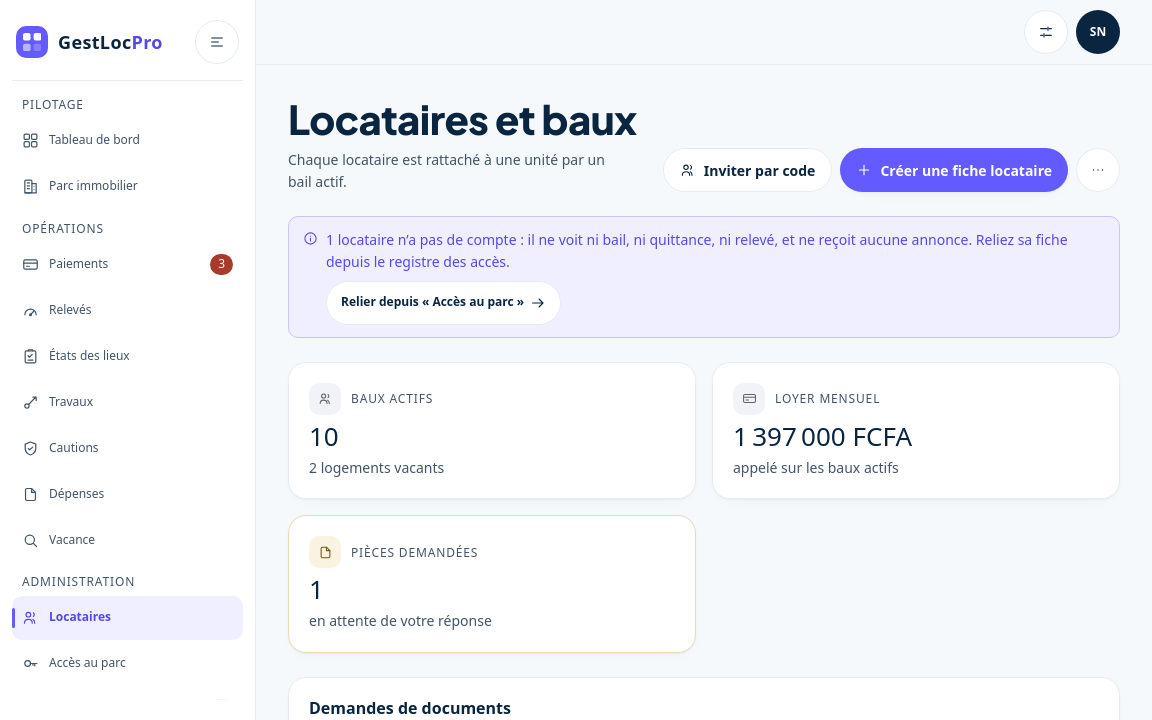
Test case: création d’une fiche locataire › refuse une fiche sans nom ni téléphone
What coordinates should you click on to do the following:
click the button "Créer une fiche locataire"
I would click on:
 (954, 170)
Its box is x1=840 y1=148 x2=1068 y2=192.
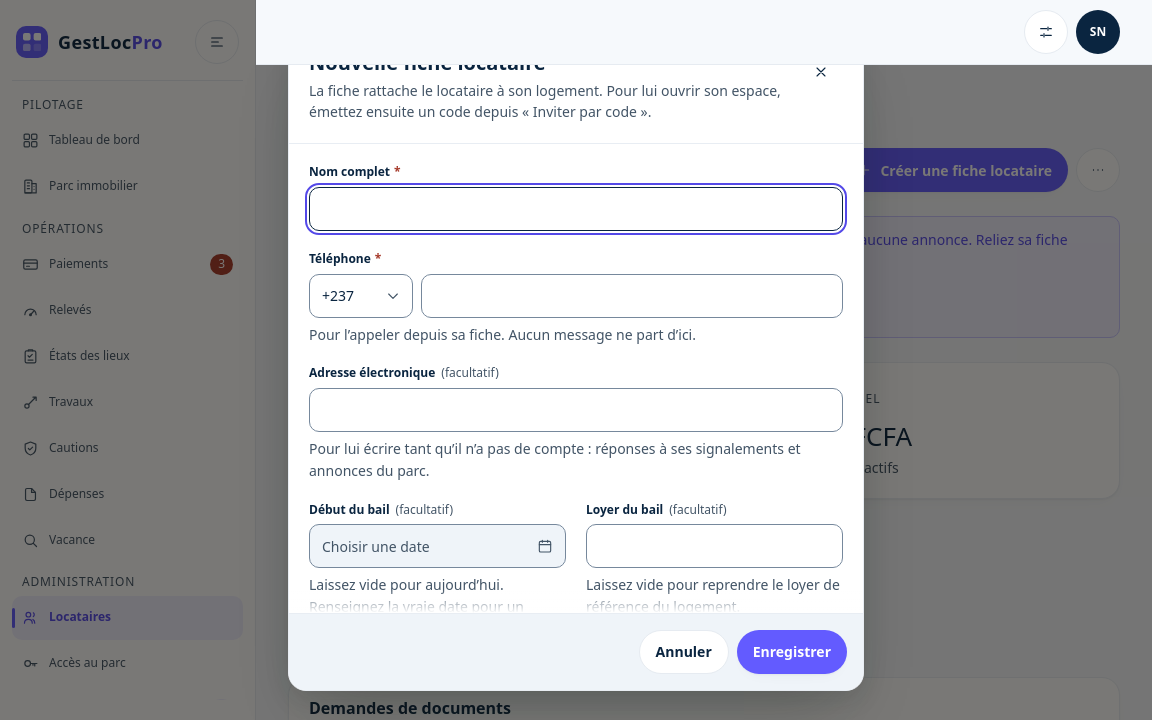
What coordinates should you click on to do the following:
click the button "Enregistrer"
I would click on:
 (792, 652)
Its box is x1=737 y1=630 x2=847 y2=674.
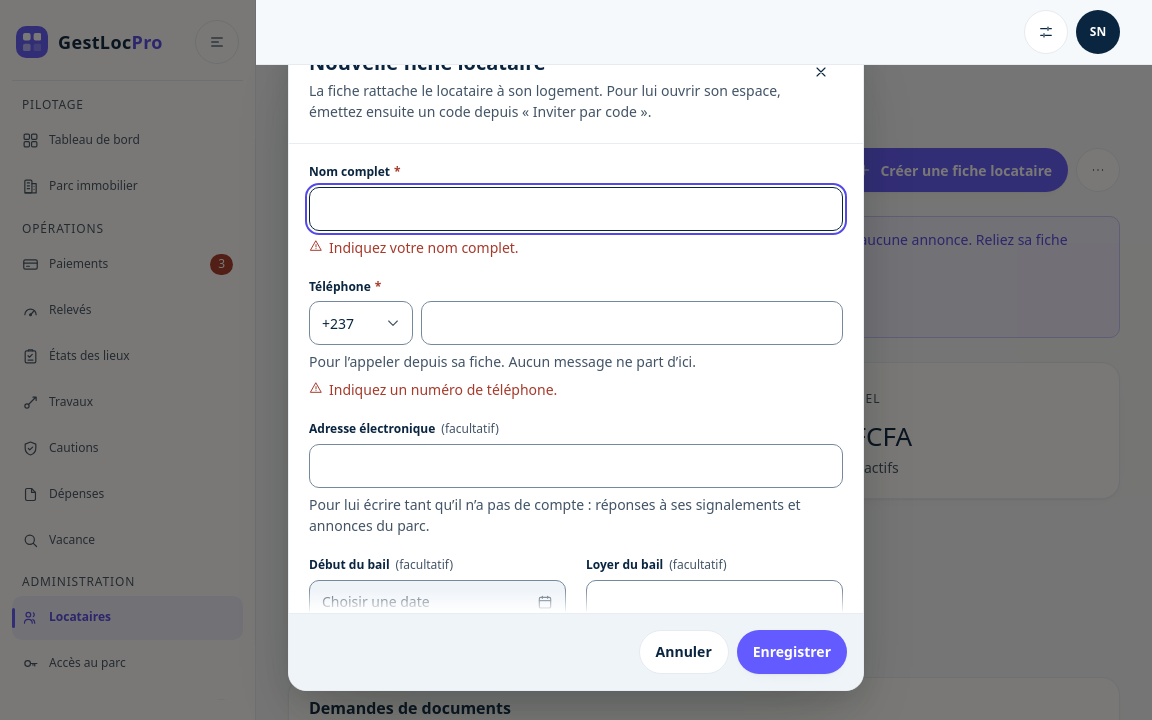
expect the dialog is shown: met, box x1=288 y1=29 x2=864 y2=691
expect the number of messages is 2: met, box x1=309 y1=238 x2=519 y2=257; x1=309 y1=380 x2=557 y2=399
